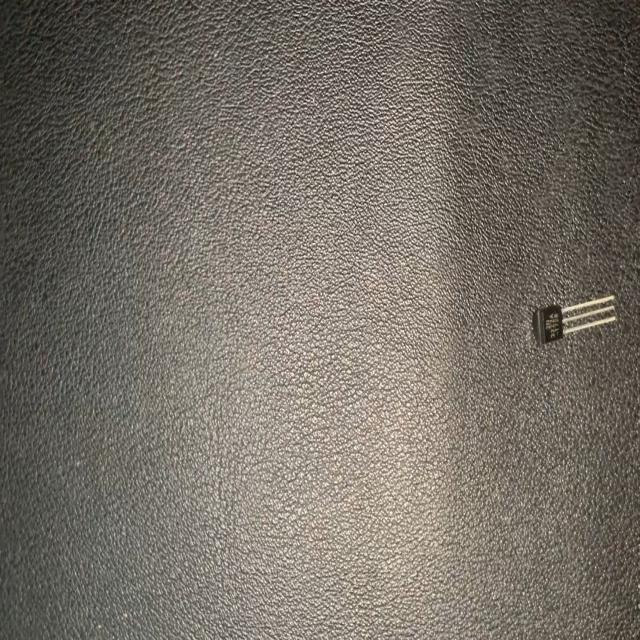BJT: (532, 294, 614, 348)
